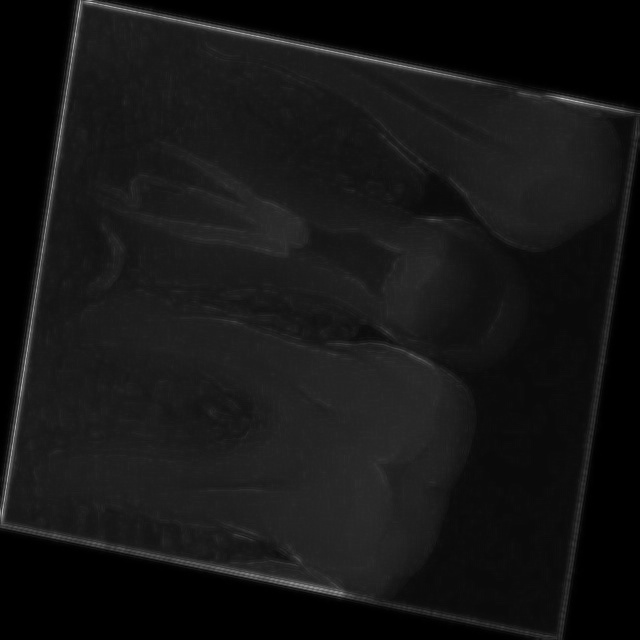Class 1- complete endodontic treatment: (28, 80, 575, 450)
cavity: (7, 260, 519, 622)
